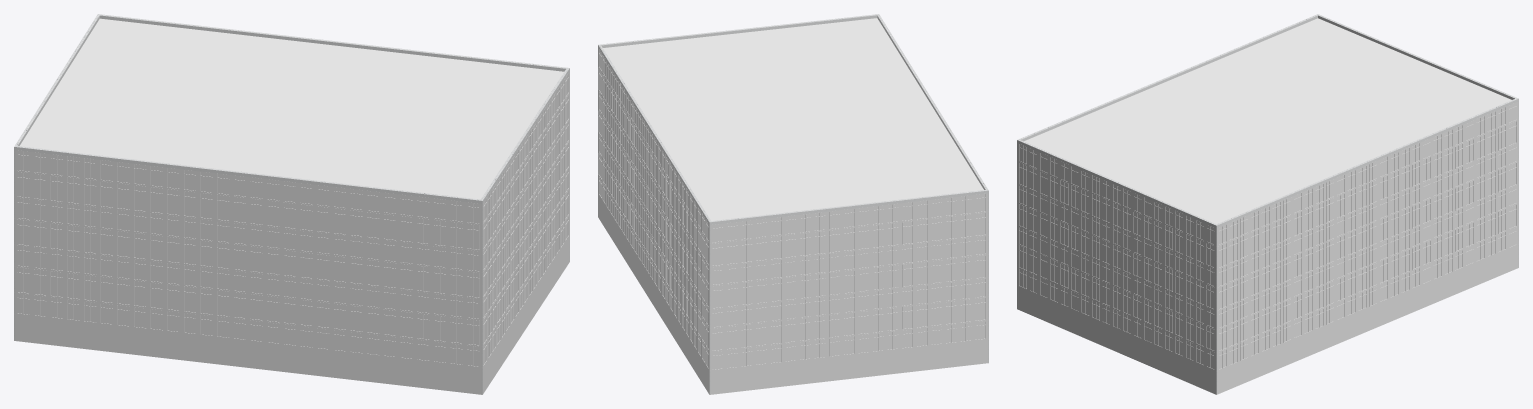
File: clohc3w6703kd4p02a04tzvgw_0.glb
3 renders of one model, left to right at view 1: azimuth 30°, elevation 25°; view 2: azimuth 150°, elevation 25°; view 3: azimuth 270°, elevation 25°, orthographic. The views are drawn at different scales.
Visible parts, largest first — view 1: mesh_CityEnginePBRShader, mesh_Wall, mesh_Glass, mesh_Brick; view 2: mesh_CityEnginePBRShader, mesh_Wall, mesh_Glass, mesh_Brick; view 3: mesh_CityEnginePBRShader, mesh_Wall, mesh_Glass, mesh_Brick.
Part boxes in pixels (x1,y1,x2,y2): mesh_CityEnginePBRShader: (14,18,569,394); mesh_Wall: (15,72,569,393); mesh_Glass: (17,237,568,393); mesh_Brick: (14,14,569,393); mesh_CityEnginePBRShader: (598,18,988,394); mesh_Wall: (598,48,987,393); mesh_Glass: (599,196,985,393); mesh_Brick: (598,14,988,393); mesh_CityEnginePBRShader: (1017,18,1518,394); mesh_Wall: (1017,102,1518,393); mesh_Glass: (1019,246,1516,392); mesh_Brick: (1017,14,1518,393).
Size of the model in its own units: 99.75 by 37.18 by 99.93.
5 materials, 1 textured.
